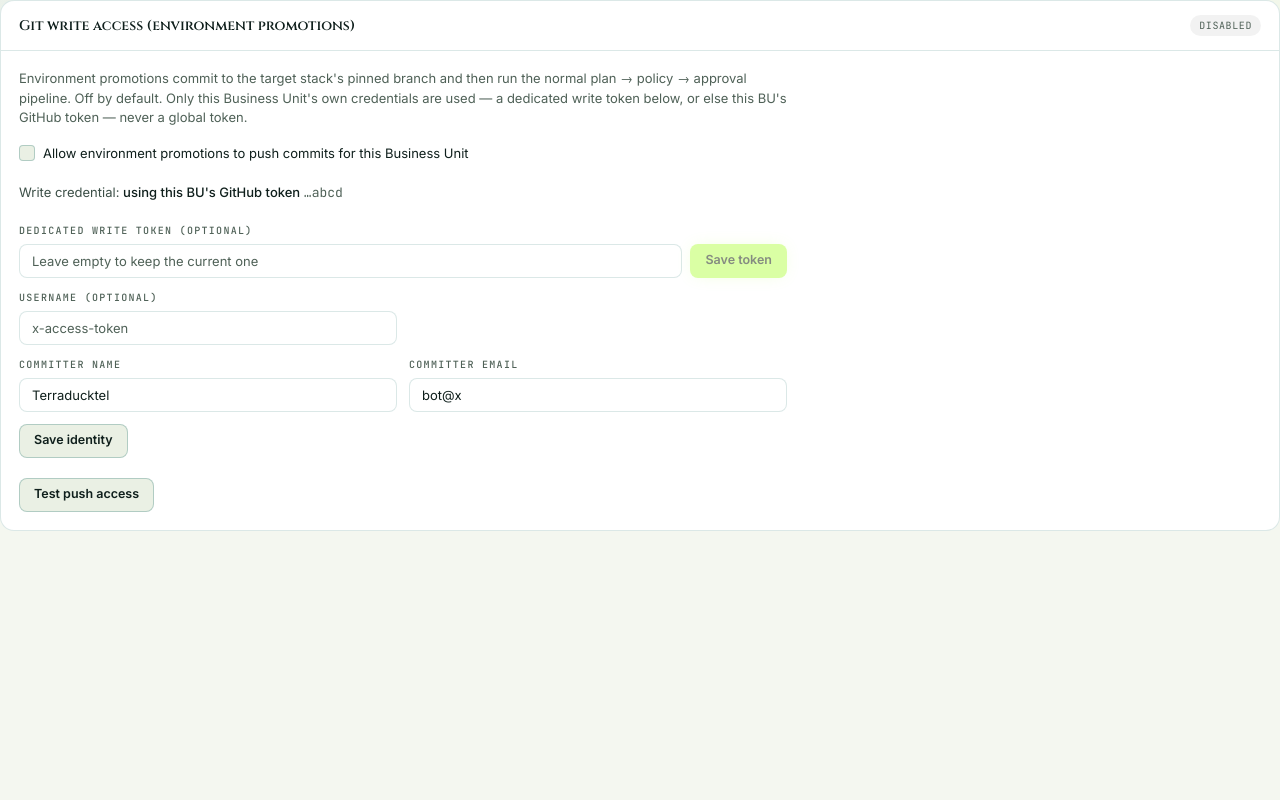
Scenario: GitWriteSection › renders per-repo push test results
Click the button "Test push access" at (87, 494), box [19, 478, 154, 512]
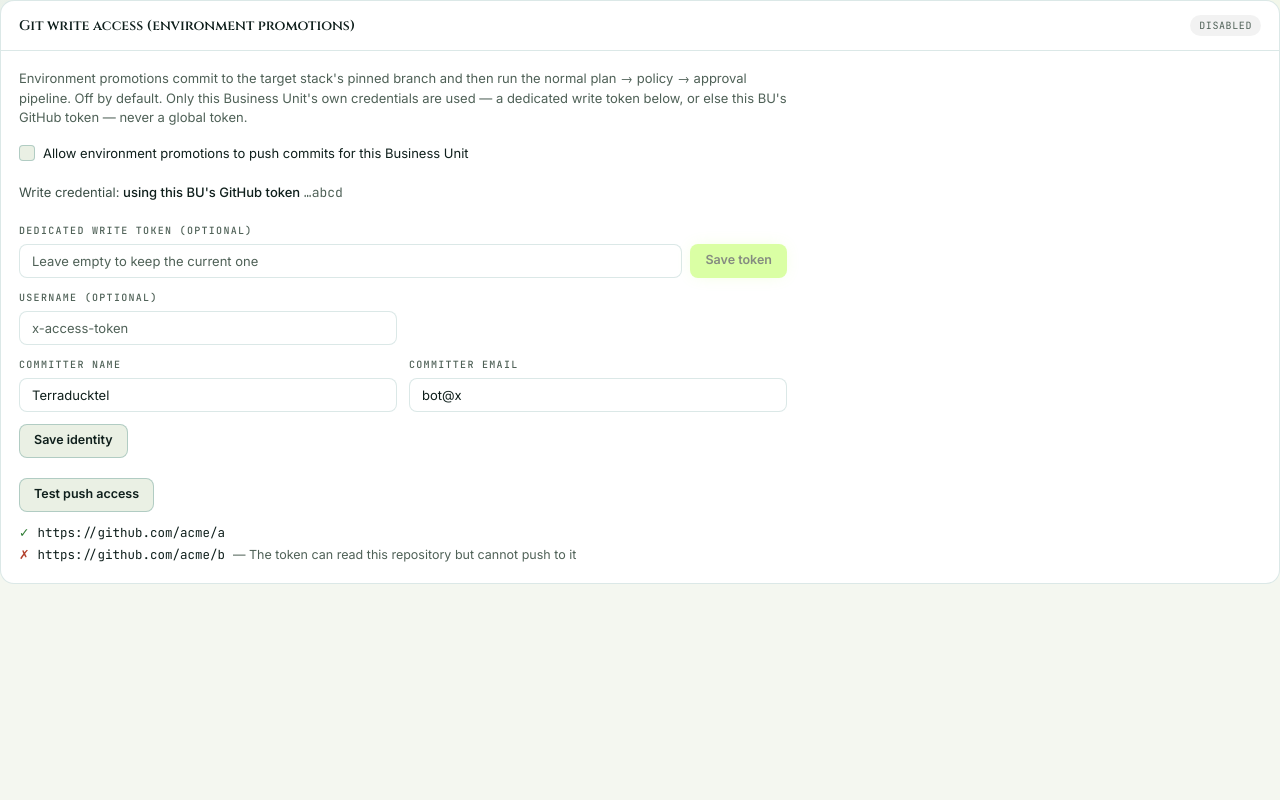
Now the text "https://github.com/acme/b" is shown, box [38, 546, 225, 565]
Now the text "— The token can read this repository but cannot push to it" is shown, box [233, 546, 576, 565]
Now the text "✓" is shown, box [19, 524, 30, 542]
